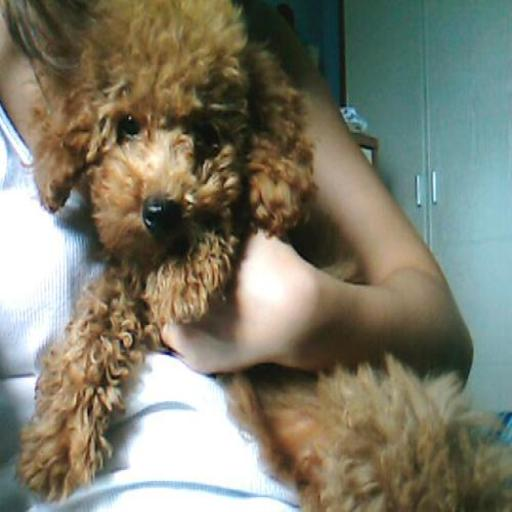dog_face: (34, 16, 292, 271)
